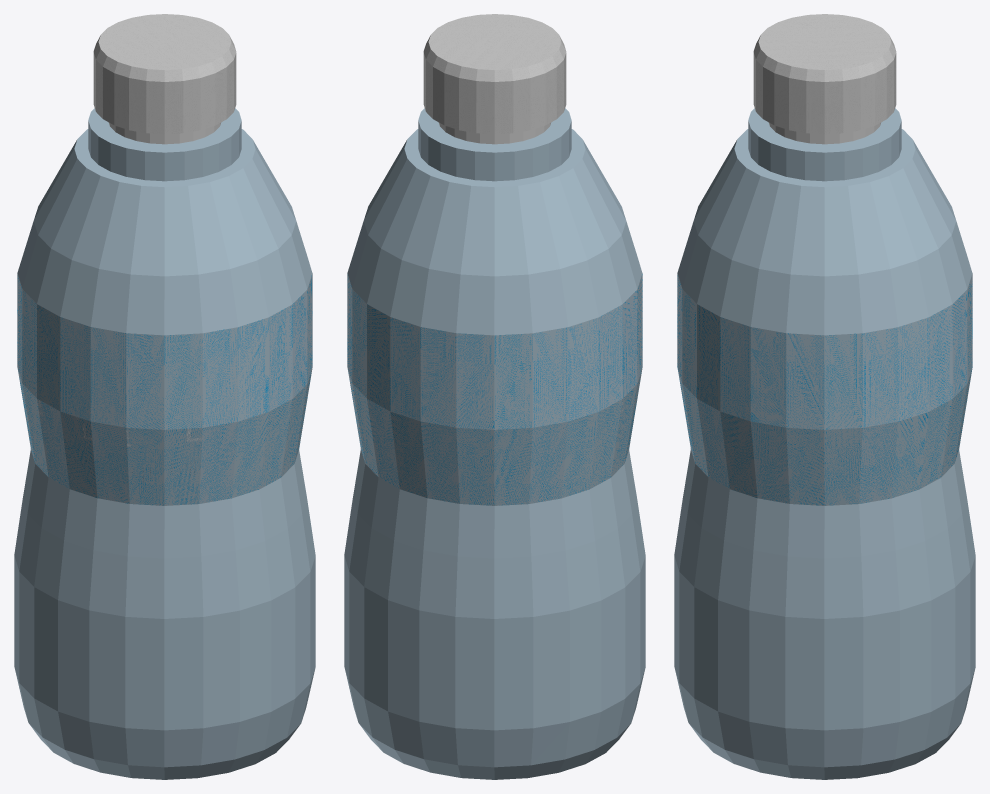
3 views of the same model, side by side, from view 1: azimuth 30°, elevation 25°; view 2: azimuth 150°, elevation 25°; view 3: azimuth 270°, elevation 25° (orthographic).
Visible parts, largest first — view 1: mesh1_mesh1-geometry; view 2: mesh1_mesh1-geometry; view 3: mesh1_mesh1-geometry.
Boxes of the visible parts, bbox=[...] form: mesh1_mesh1-geometry: bbox=[14, 14, 315, 779]; mesh1_mesh1-geometry: bbox=[344, 14, 645, 779]; mesh1_mesh1-geometry: bbox=[674, 14, 975, 779].
Bounding box in the file's own units: 0.3479 × 0.8706 × 0.3479.
Materials: 4 (1 with a texture image).
